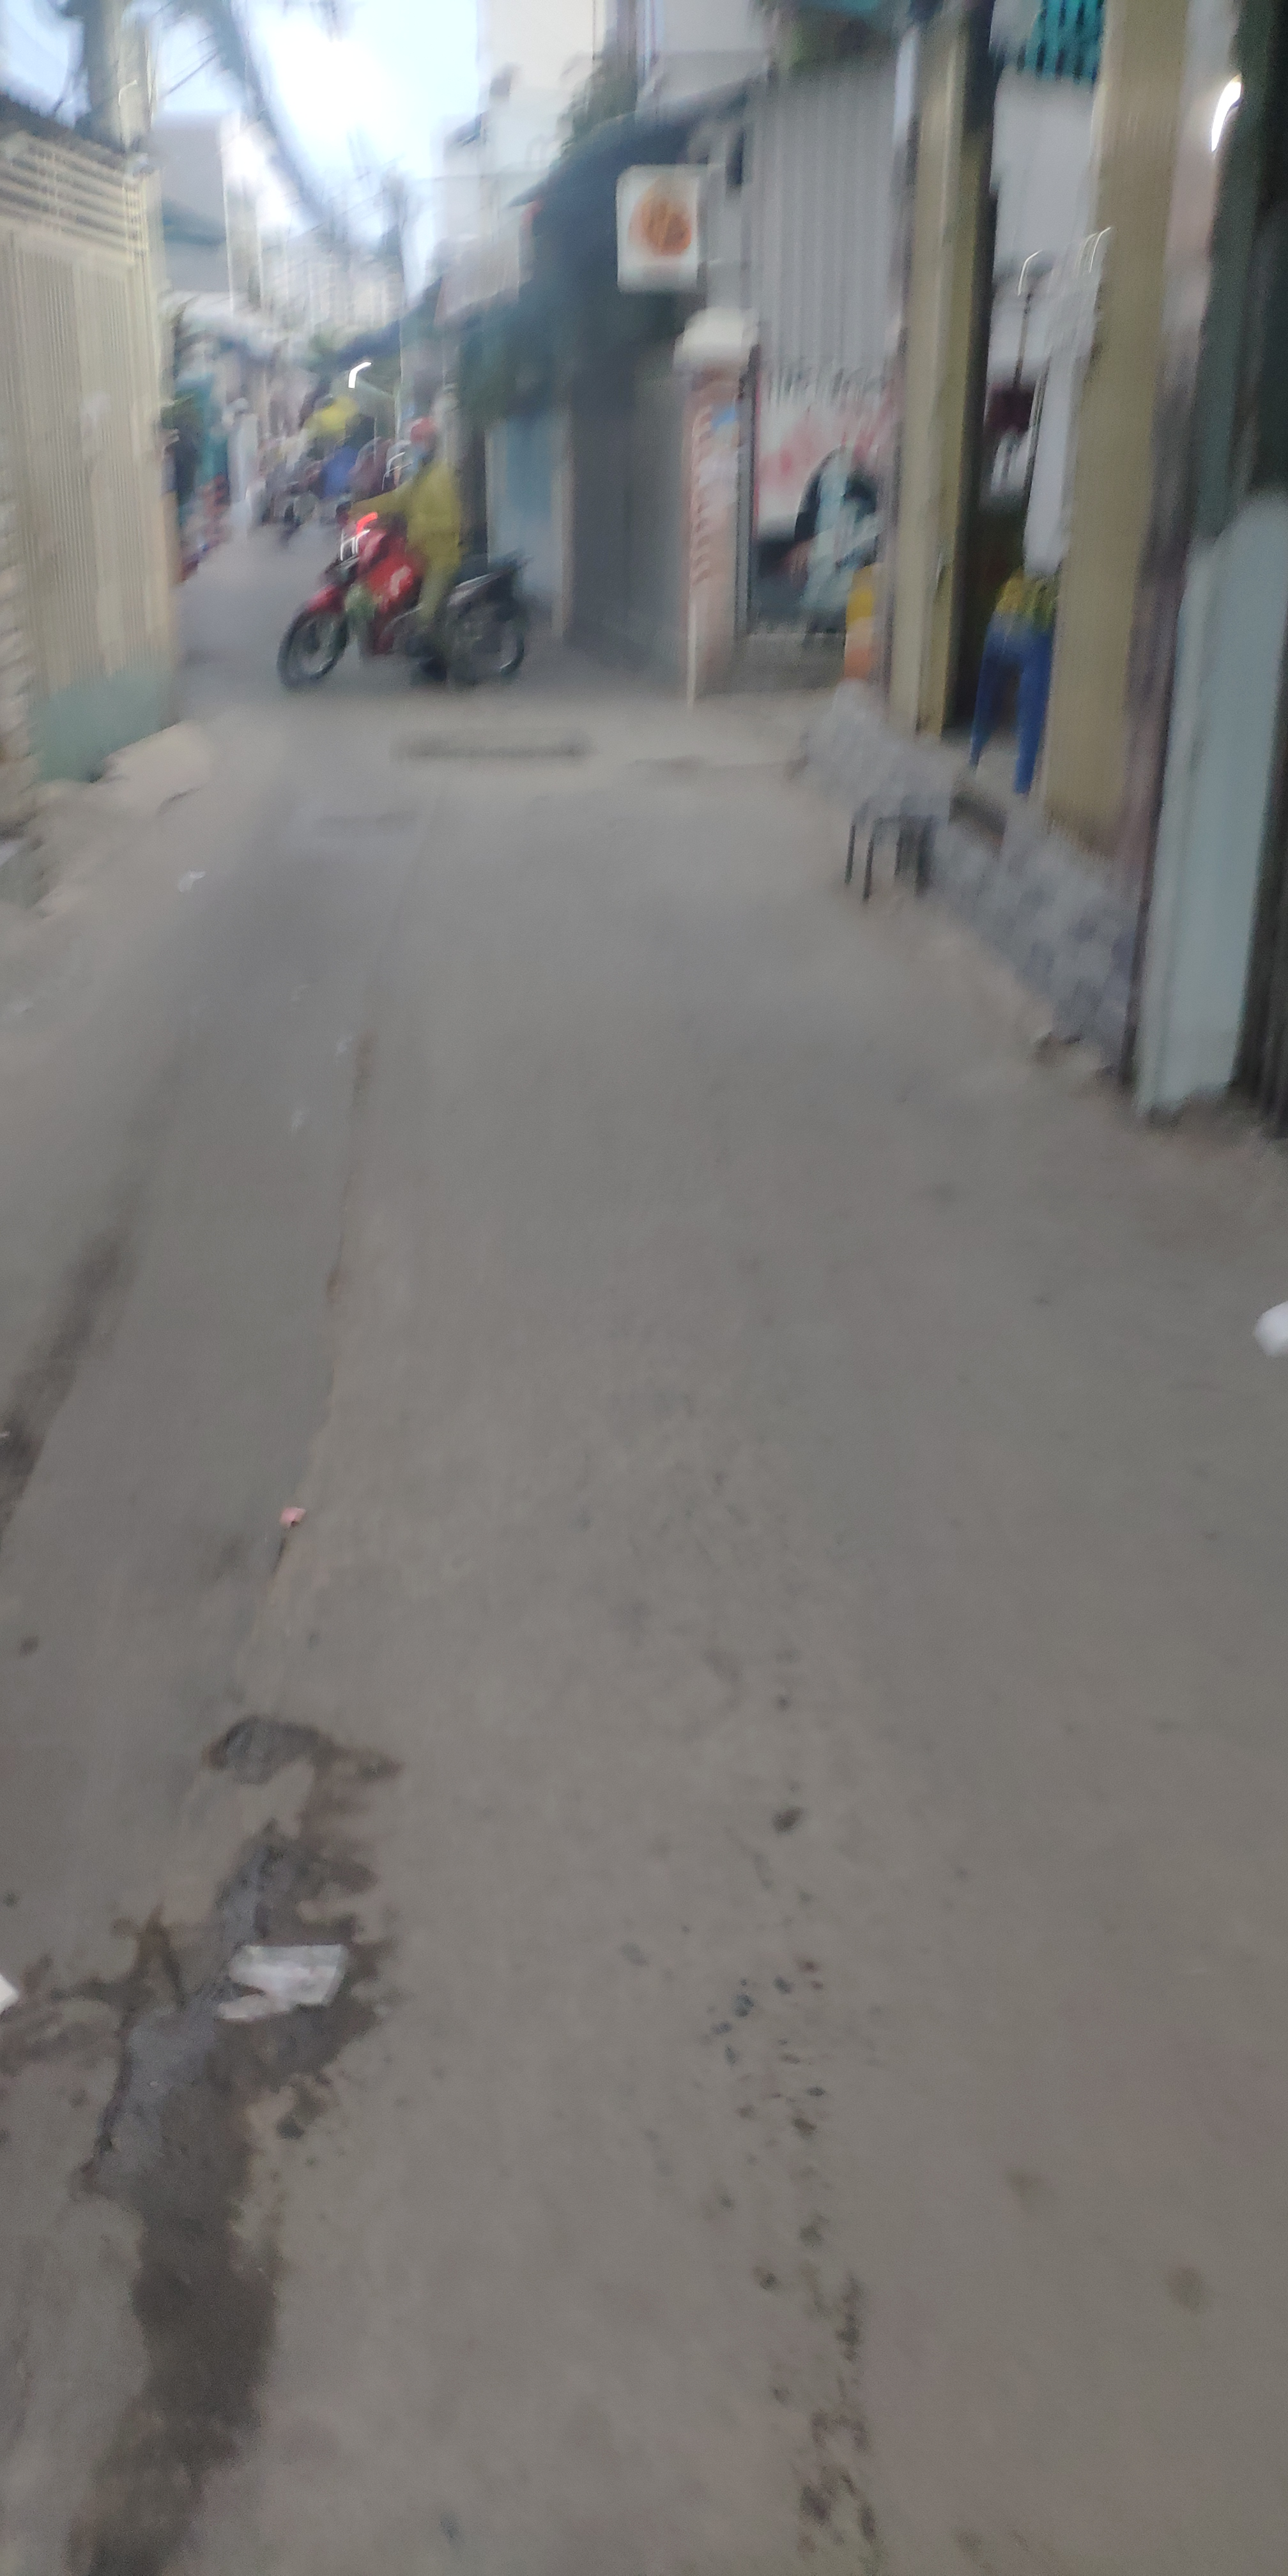hole: (51, 1689, 329, 2234)
